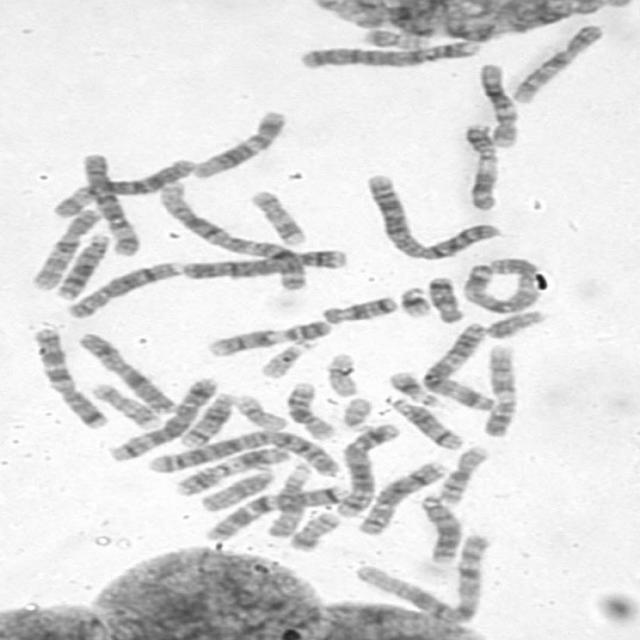A1: (152, 176, 312, 292), (348, 528, 494, 624)
A2: (358, 169, 503, 262), (140, 422, 342, 478)
A3: (416, 318, 499, 411), (455, 252, 543, 315)
B4: (290, 34, 484, 70), (174, 242, 351, 281)
B5: (100, 372, 222, 463), (328, 416, 404, 518)
C10: (504, 19, 608, 104), (24, 202, 104, 292)
C11: (170, 441, 289, 497), (455, 117, 503, 212)
C12: (185, 104, 290, 180), (472, 58, 522, 148)
C6: (46, 153, 200, 220), (73, 147, 143, 257)
C7: (24, 320, 111, 430), (198, 480, 351, 542)
C8: (58, 255, 184, 320), (351, 455, 450, 536)
C9: (200, 314, 336, 358), (475, 339, 521, 438)
D13: (48, 227, 112, 301), (413, 490, 463, 564)
D14: (381, 391, 467, 451), (171, 386, 239, 448)
D15: (259, 458, 315, 538), (194, 463, 278, 513)
E16: (431, 440, 492, 505), (278, 376, 339, 441)
E17: (244, 184, 309, 247), (84, 378, 162, 430)
E18: (314, 290, 400, 325), (420, 270, 467, 324)
F19: (227, 389, 290, 432), (318, 346, 362, 398)
F20: (282, 506, 342, 552), (356, 22, 432, 50)
G21: (381, 365, 443, 407), (392, 280, 434, 318)
G22: (253, 334, 317, 380), (334, 391, 376, 432)
X: (71, 326, 179, 415)
Y: (479, 305, 548, 340)
